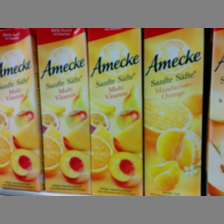juice: (142, 28, 204, 194), (87, 28, 145, 195), (36, 28, 91, 194), (1, 28, 42, 190)
